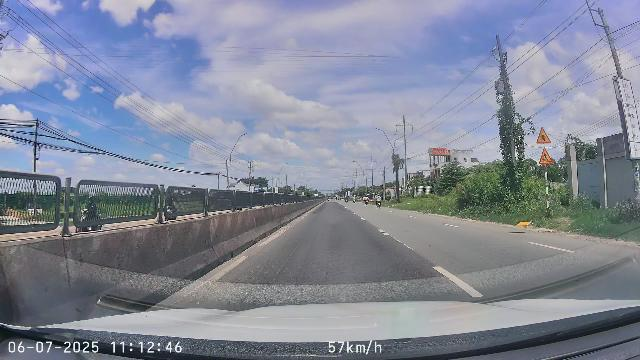207-giao-nhau-voi-duong-khong-uu-tien: (536, 127, 551, 143)
224-duong-nguoi-di-bo-cat-ngang: (539, 148, 553, 164)
